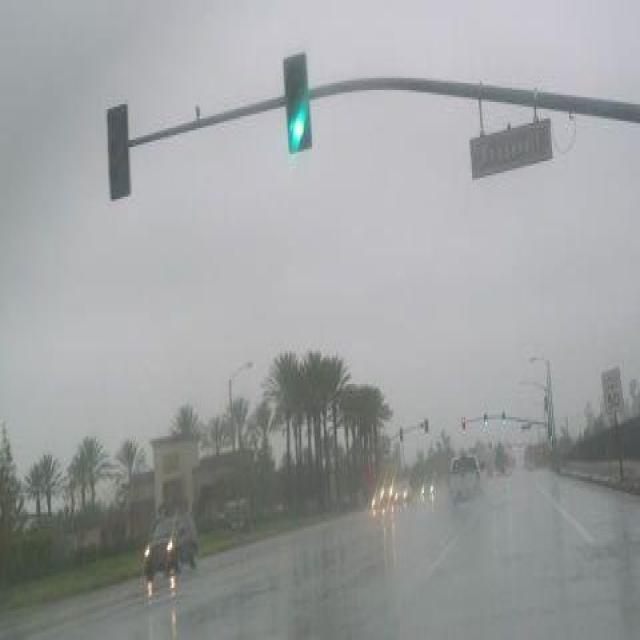Car: (142, 510, 201, 577), (448, 454, 485, 502), (419, 479, 438, 501), (395, 483, 411, 506), (380, 482, 396, 504)
